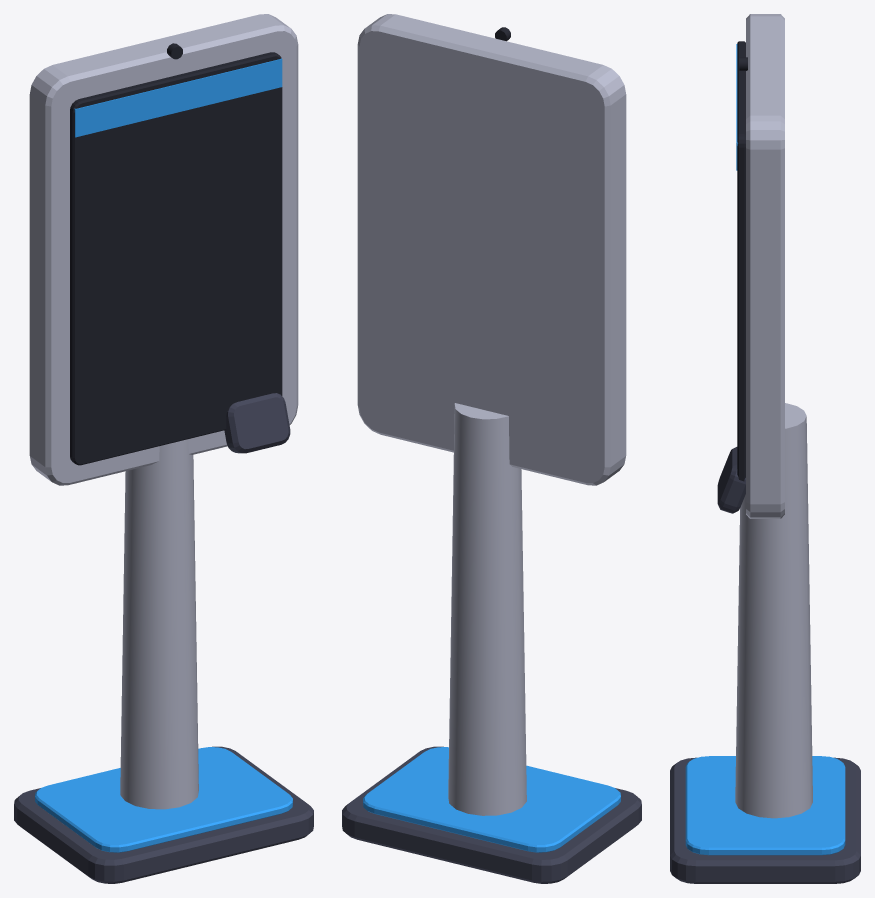
Rendered from self_service_screen.glb.
The picture shows the model from 3 angles, left to right: view 1: azimuth 30°, elevation 25°; view 2: azimuth 150°, elevation 25°; view 3: azimuth 270°, elevation 25°; orthographic projection. The views are drawn at different scales.
Parts seen in each view (by area): view 1: totem_screen, totem_panel, totem_column, totem_base_accent, totem_base, totem_screen_header, totem_card_reader; view 2: totem_panel, totem_column, totem_base_accent, totem_base; view 3: totem_column, totem_panel, totem_base_accent, totem_base, totem_screen, totem_card_reader.
Boxes of the visible parts, left/top/right/bottom form: totem_screen: left=70, top=52, right=282, bottom=465; totem_panel: left=29, top=14, right=298, bottom=485; totem_column: left=120, top=439, right=198, bottom=809; totem_base_accent: left=35, top=747, right=292, bottom=852; totem_base: left=14, top=746, right=313, bottom=883; totem_screen_header: left=74, top=58, right=282, bottom=137; totem_card_reader: left=224, top=393, right=290, bottom=453; totem_panel: left=357, top=14, right=626, bottom=485; totem_column: left=448, top=403, right=526, bottom=815; totem_base_accent: left=363, top=747, right=620, bottom=852; totem_base: left=342, top=746, right=641, bottom=883; totem_column: left=735, top=403, right=812, bottom=818; totem_panel: left=746, top=14, right=784, bottom=518; totem_base_accent: left=685, top=756, right=845, bottom=855; totem_base: left=670, top=757, right=860, bottom=883; totem_screen: left=737, top=41, right=745, bottom=481; totem_card_reader: left=717, top=447, right=745, bottom=513.
Bounding box in the file's own units: 0.66 × 1.97 × 0.44.
